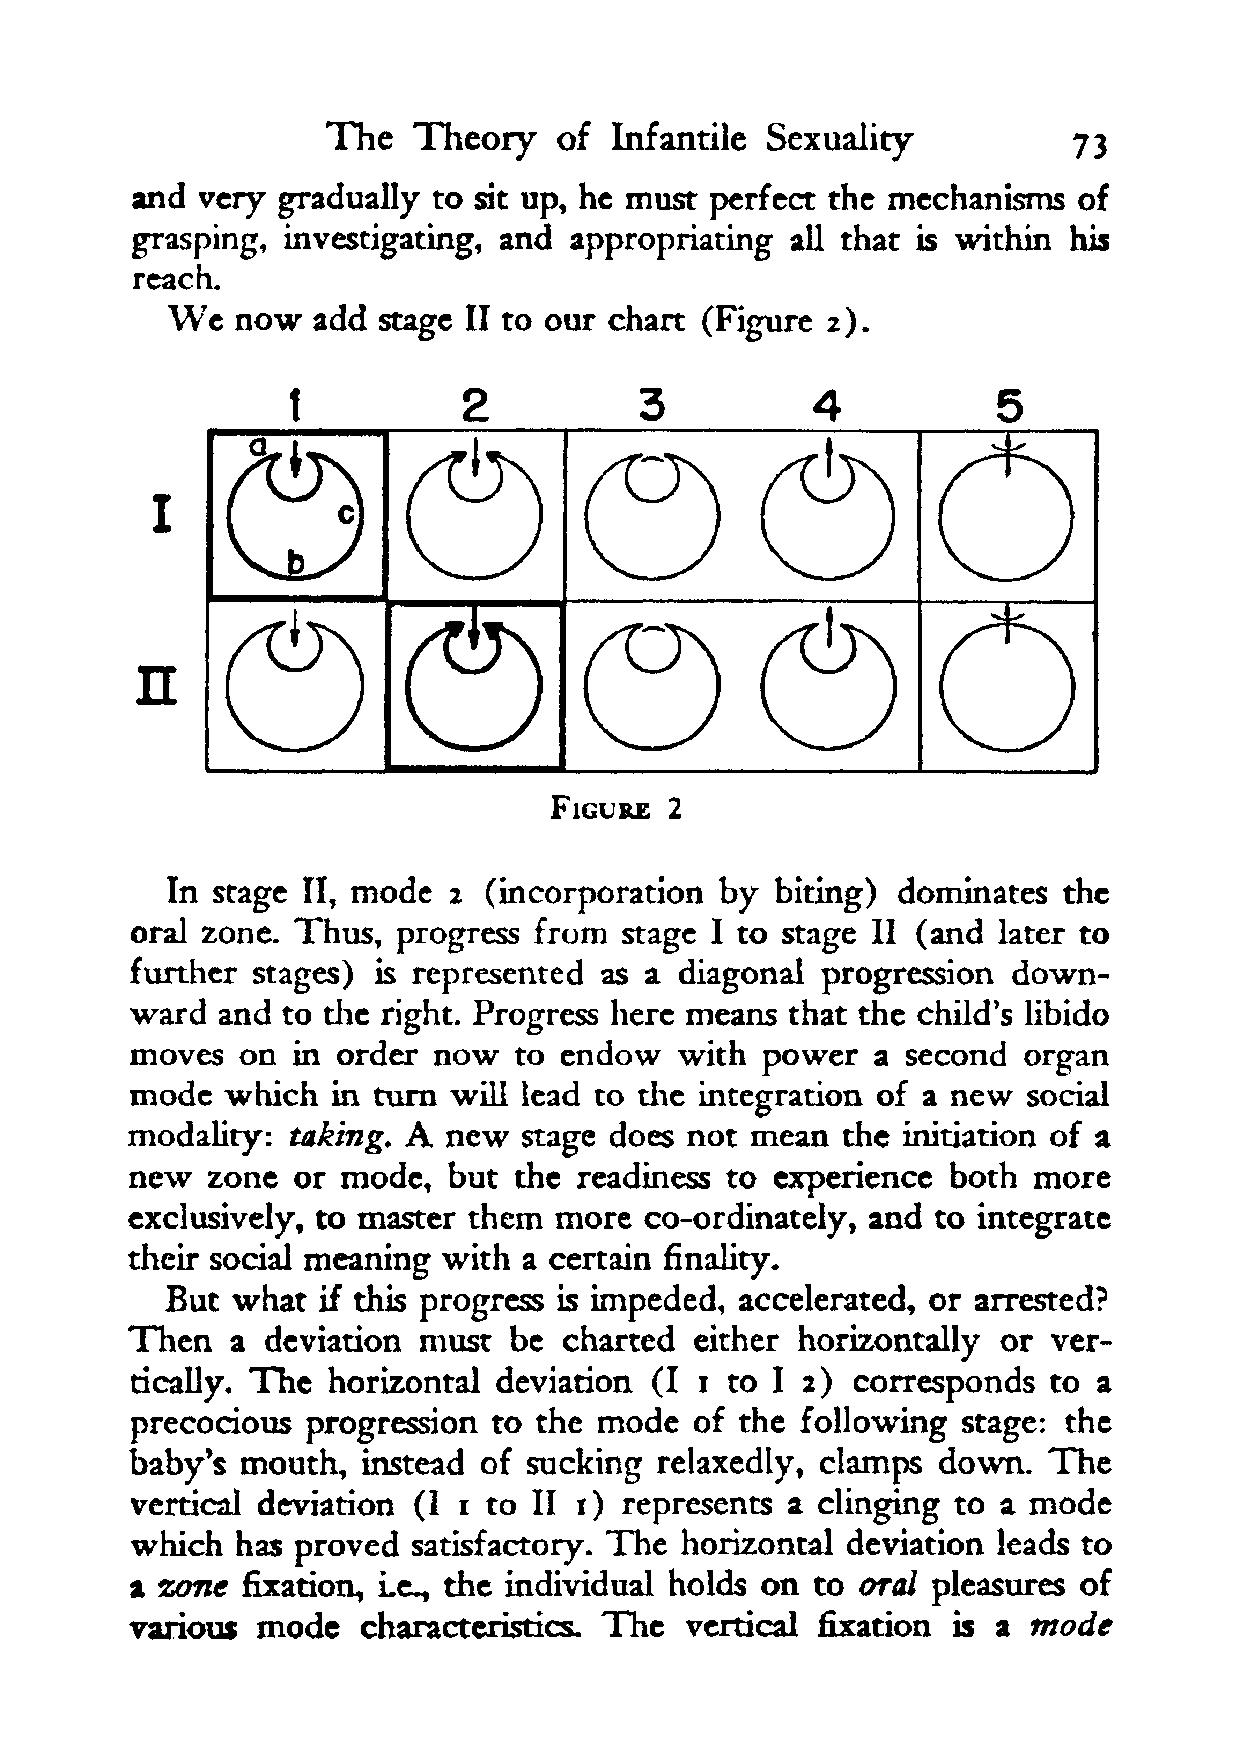content: (126, 178, 1119, 1645)
content_chapter: (319, 115, 914, 162)
content_pagenumber: (1070, 127, 1108, 161)
